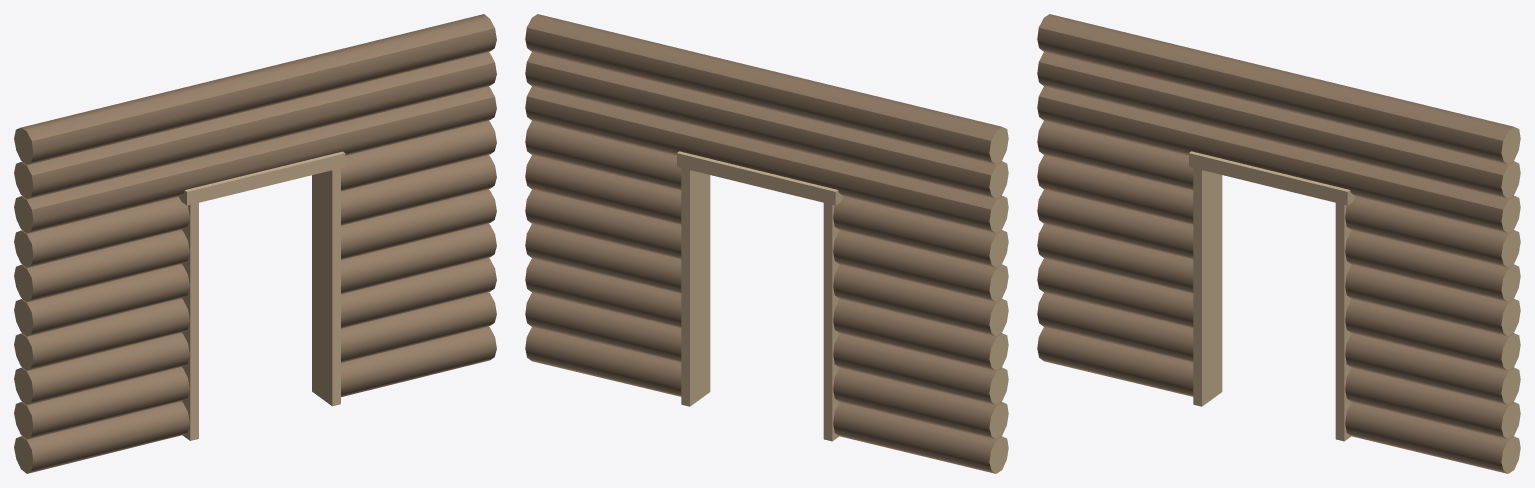
Rendered from log_wall_doorway_diagonal.glb.
The picture shows the model from 3 angles, left to right: view 1: azimuth 30°, elevation 25°; view 2: azimuth 150°, elevation 25°; view 3: azimuth 330°, elevation 25°; orthographic projection.
Visible parts, largest first — view 1: Wall; view 2: Wall; view 3: Wall.
Part boxes in pixels (x1,y1,x2,y2): Wall: (14,14,496,473); Wall: (525,14,1008,473); Wall: (1037,14,1520,473).
Size of the model in its own units: 4.24 by 3 by 0.34.
